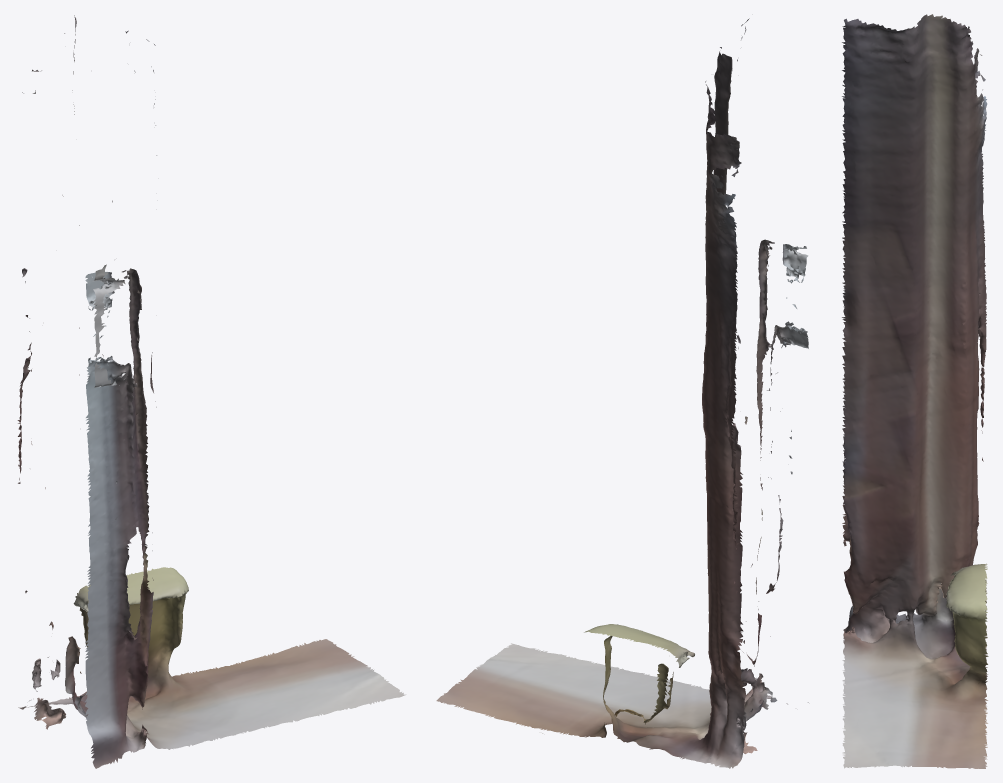
The model's file is apartment-full-56-01758e58a535.glb.
3 renders of one model, left to right at view 1: azimuth 30°, elevation 25°; view 2: azimuth 150°, elevation 25°; view 3: azimuth 270°, elevation 25°, orthographic. The views are drawn at different scales.
Size of the model in its own units: 0.879 by 1.97 by 0.399.
